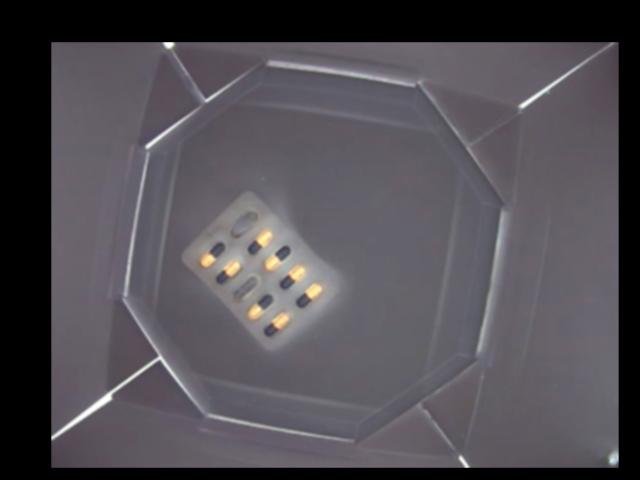Medicine: (178, 187, 340, 347)
